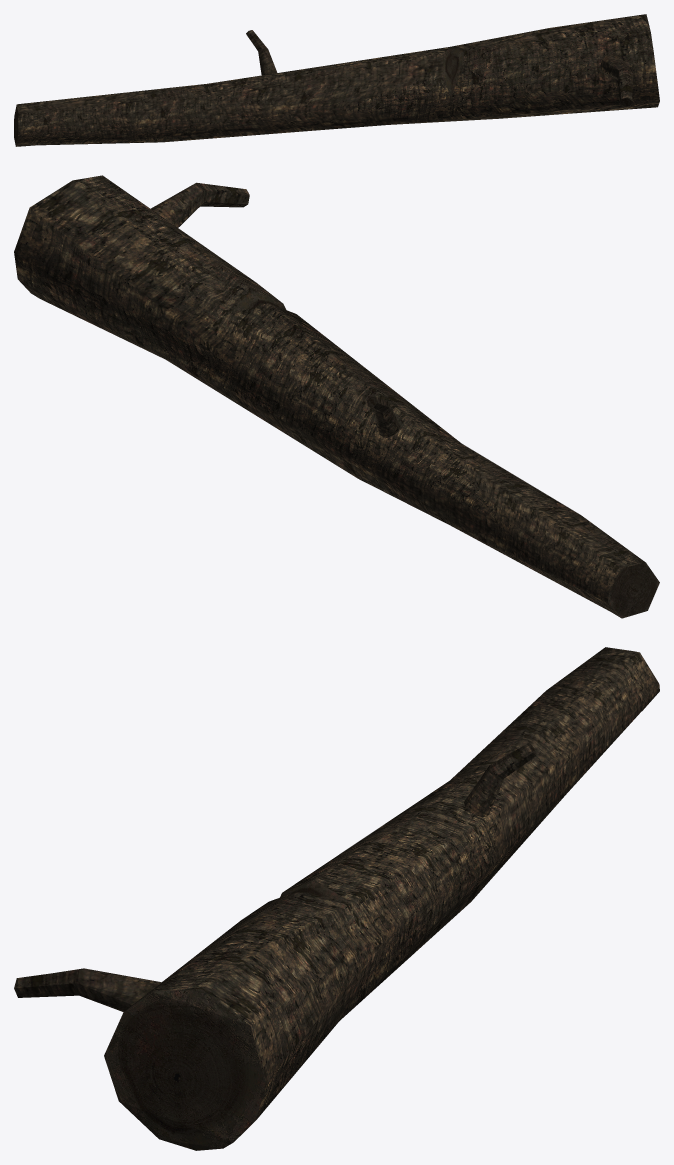
File: tree_log_1.obj
3 views of the same model, one above another, from view 1: azimuth 30°, elevation 25°; view 2: azimuth 150°, elevation 25°; view 3: azimuth 270°, elevation 25° (orthographic). The views are drawn at different scales.
Parts seen in each view (by area): view 1: tree_log_1; view 2: tree_log_1; view 3: tree_log_1.
Boxes of the visible parts, x1=… form: tree_log_1: x1=14, y1=14, x2=659, y2=146; tree_log_1: x1=14, y1=175, x2=659, y2=618; tree_log_1: x1=14, y1=647, x2=659, y2=1150.
Size of the model in its own units: 3.3 by 0.5574 by 1.93.
